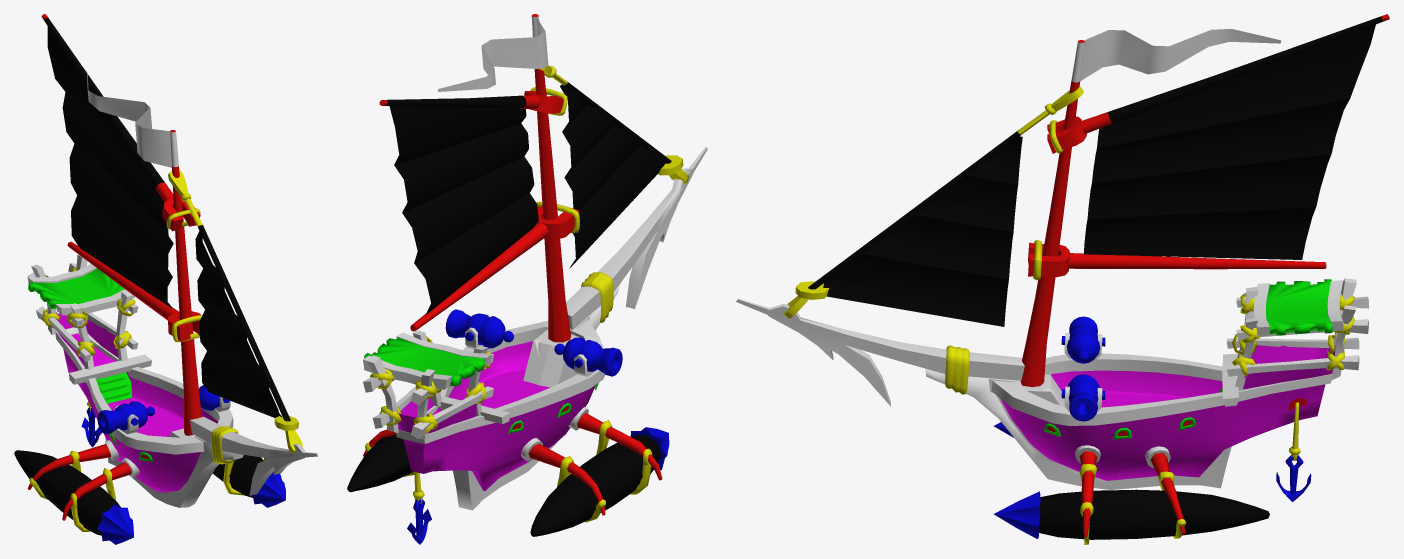
Rendered from Kite.fbx.
3 renders of one model, left to right at view 1: azimuth 30°, elevation 25°; view 2: azimuth 150°, elevation 25°; view 3: azimuth 270°, elevation 25°, orthographic. The views are drawn at different scales.
Visible parts, largest first — view 1: Kite, Kite_Sail_Big, Kite_Sail_Small, Kite_Windsock, Kite_Anchor; view 2: Kite, Kite_Sail_Big, Kite_Sail_Small, Kite_Windsock, Kite_Anchor; view 3: Kite, Kite_Sail_Big, Kite_Sail_Small, Kite_Windsock, Kite_Anchor.
Part boxes in pixels (x1,y1,x2,y2): Kite: (14, 130, 318, 544); Kite_Sail_Big: (41, 14, 202, 342); Kite_Sail_Small: (195, 231, 298, 430); Kite_Windsock: (86, 71, 171, 167); Kite_Anchor: (81, 401, 102, 447); Kite: (347, 14, 707, 536); Kite_Sail_Big: (379, 87, 579, 331); Kite_Sail_Small: (560, 84, 683, 268); Kite_Windsock: (438, 18, 548, 91); Kite_Anchor: (407, 472, 431, 544); Kite: (736, 40, 1368, 544); Kite_Sail_Big: (1028, 14, 1389, 280); Kite_Sail_Small: (795, 136, 1022, 326); Kite_Windsock: (1080, 29, 1281, 80); Kite_Anchor: (1276, 402, 1311, 501).
Bounding box in the file's own units: 260 × 465 × 570.
